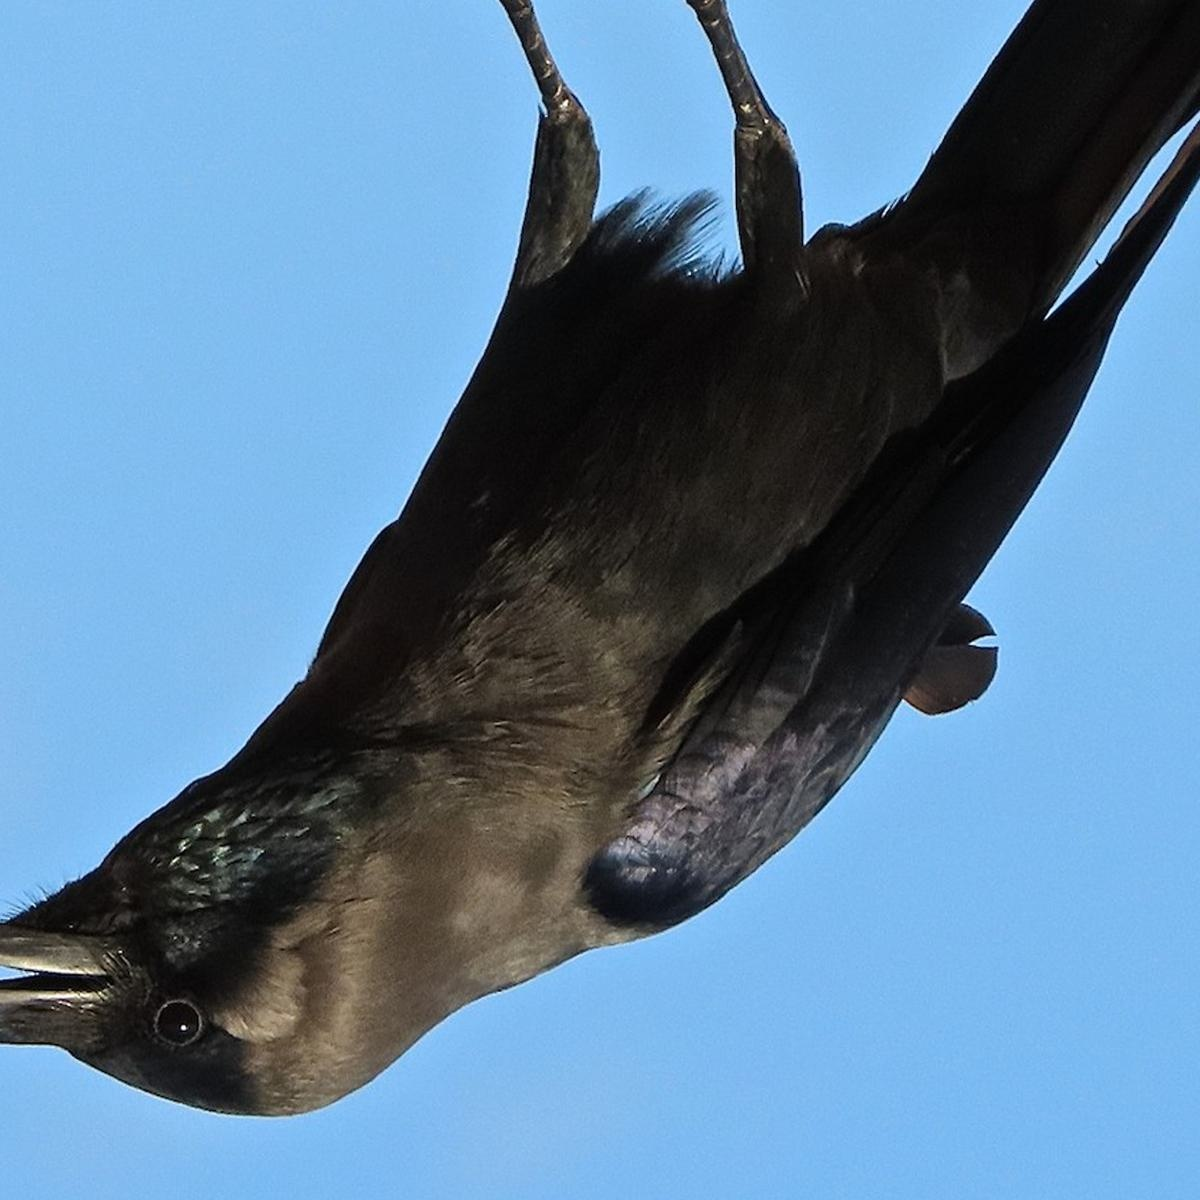crow: (1, 1, 1200, 1130)
